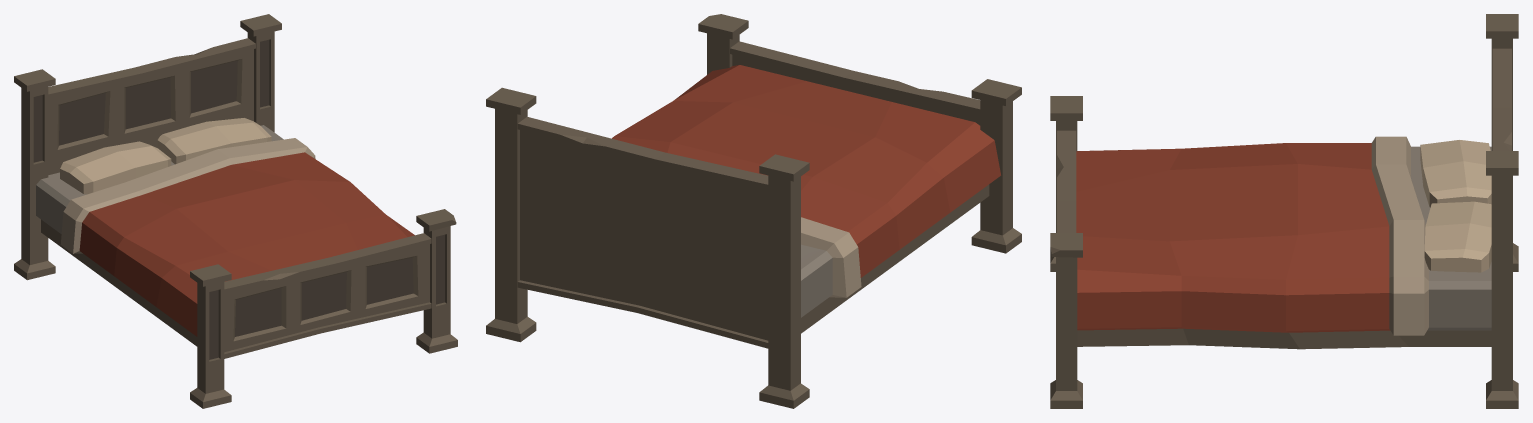
File: SM_Prop_Bed_01.glb
3 views of the same model, side by side, from view 1: azimuth 30°, elevation 25°; view 2: azimuth 150°, elevation 25°; view 3: azimuth 270°, elevation 25° (orthographic). The views are drawn at different scales.
Parts seen in each view (by area): view 1: SM_Prop_Bed_01; view 2: SM_Prop_Bed_01; view 3: SM_Prop_Bed_01.
Part boxes in pixels (box(x1,y1,x2,y2)): SM_Prop_Bed_01: box(14, 14, 457, 408); SM_Prop_Bed_01: box(486, 14, 1021, 408); SM_Prop_Bed_01: box(1050, 14, 1518, 408).
Size of the model in its own units: 2.08 by 1.52 by 2.67.
1 material, 1 textured.
